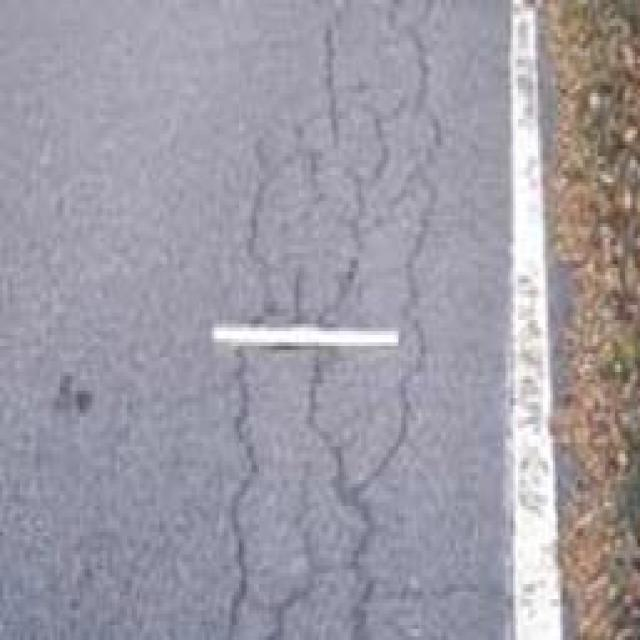Pothole: (227, 94, 640, 640)
